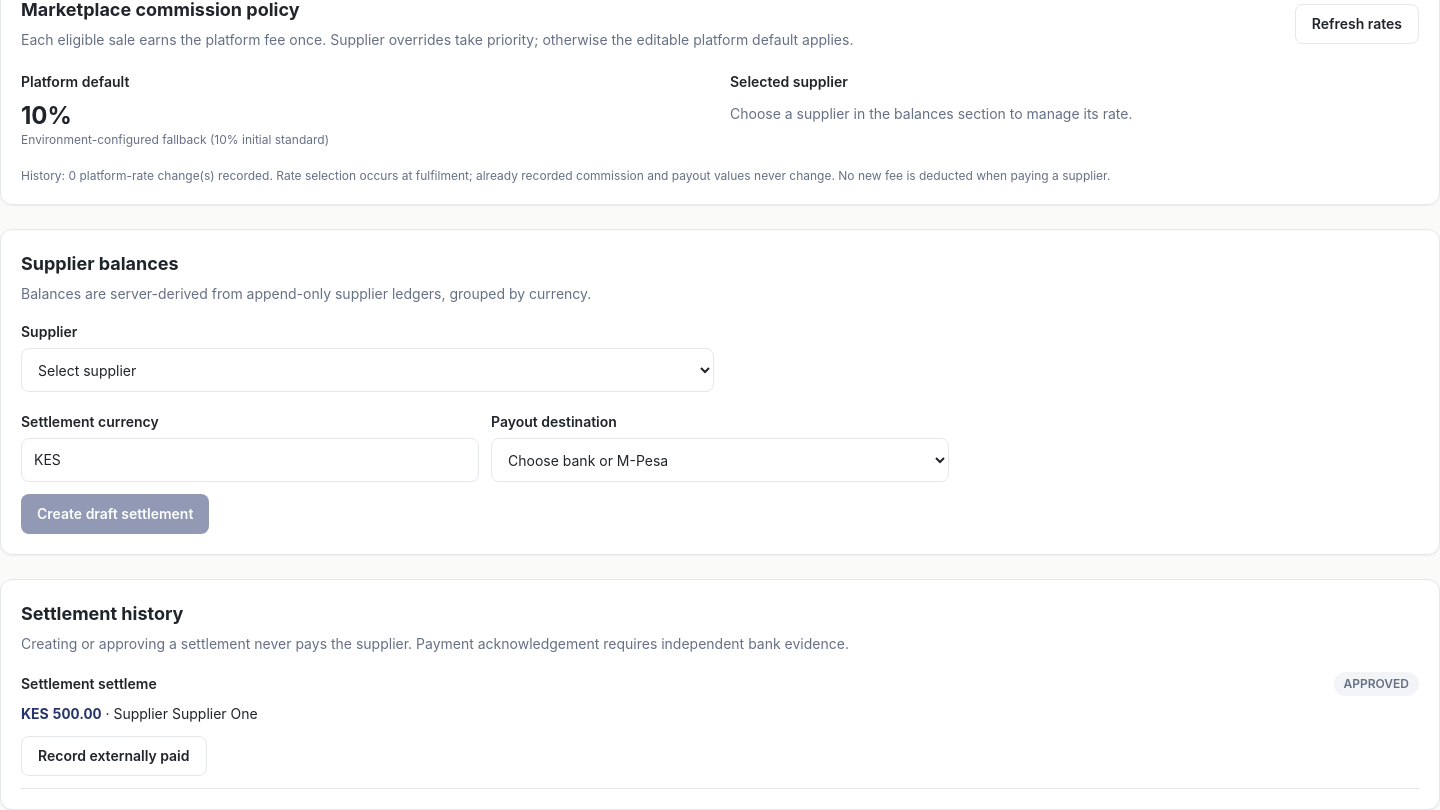
it: platform financial settlement operations › keeps full bank details hidden until the operator explicitly reveals them
The image size is (1440, 810).
(page scrolled)
Expected: the heading "Settlement history" is shown, [21,603,183,624]
Step 1. Click the button "Record externally paid" → (114, 756), box [21,736,206,776]
(page scrolled)
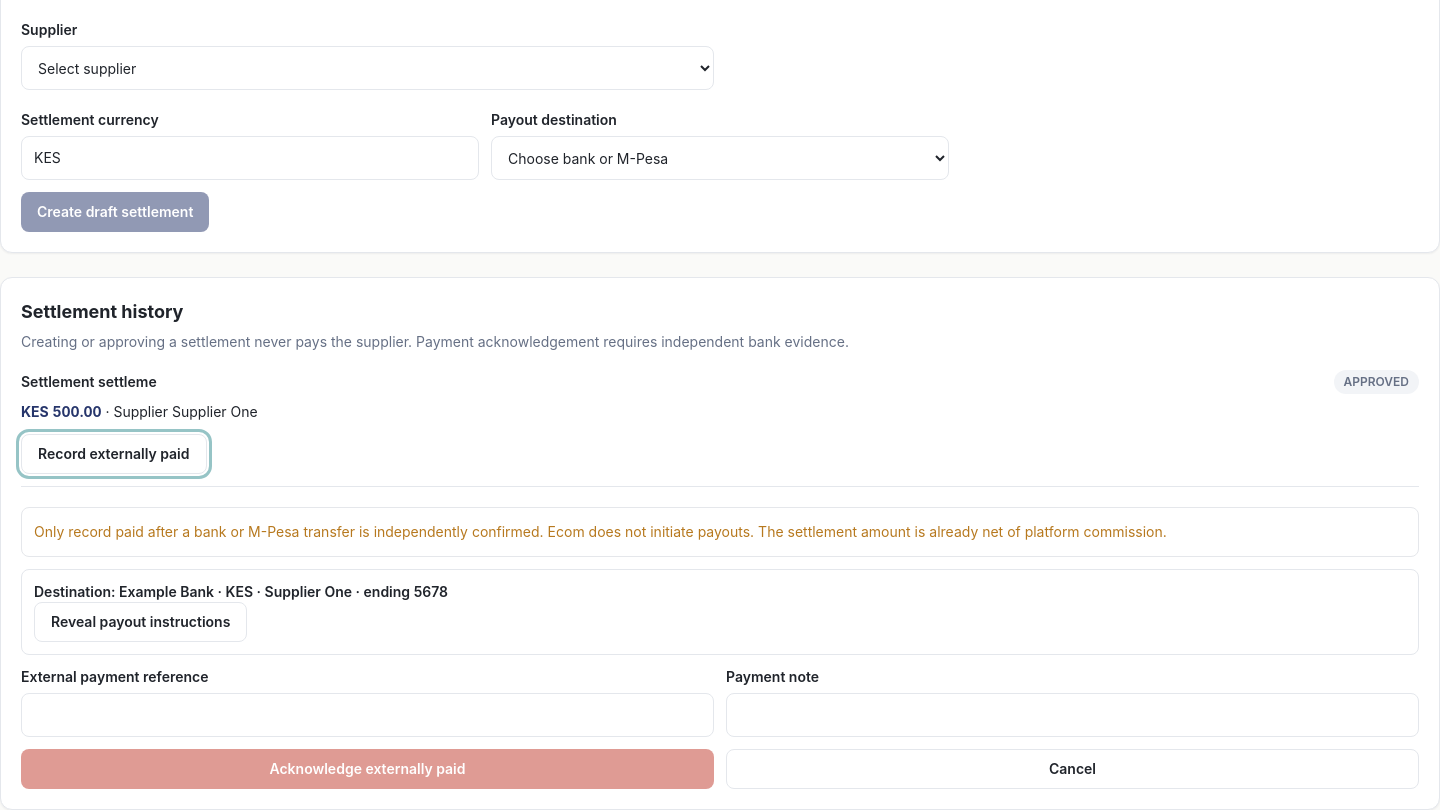
Expected: the text "12345678" is not shown
Step 2. Click the button "Reveal payout instructions" → (141, 622), box [34,602,247,642]
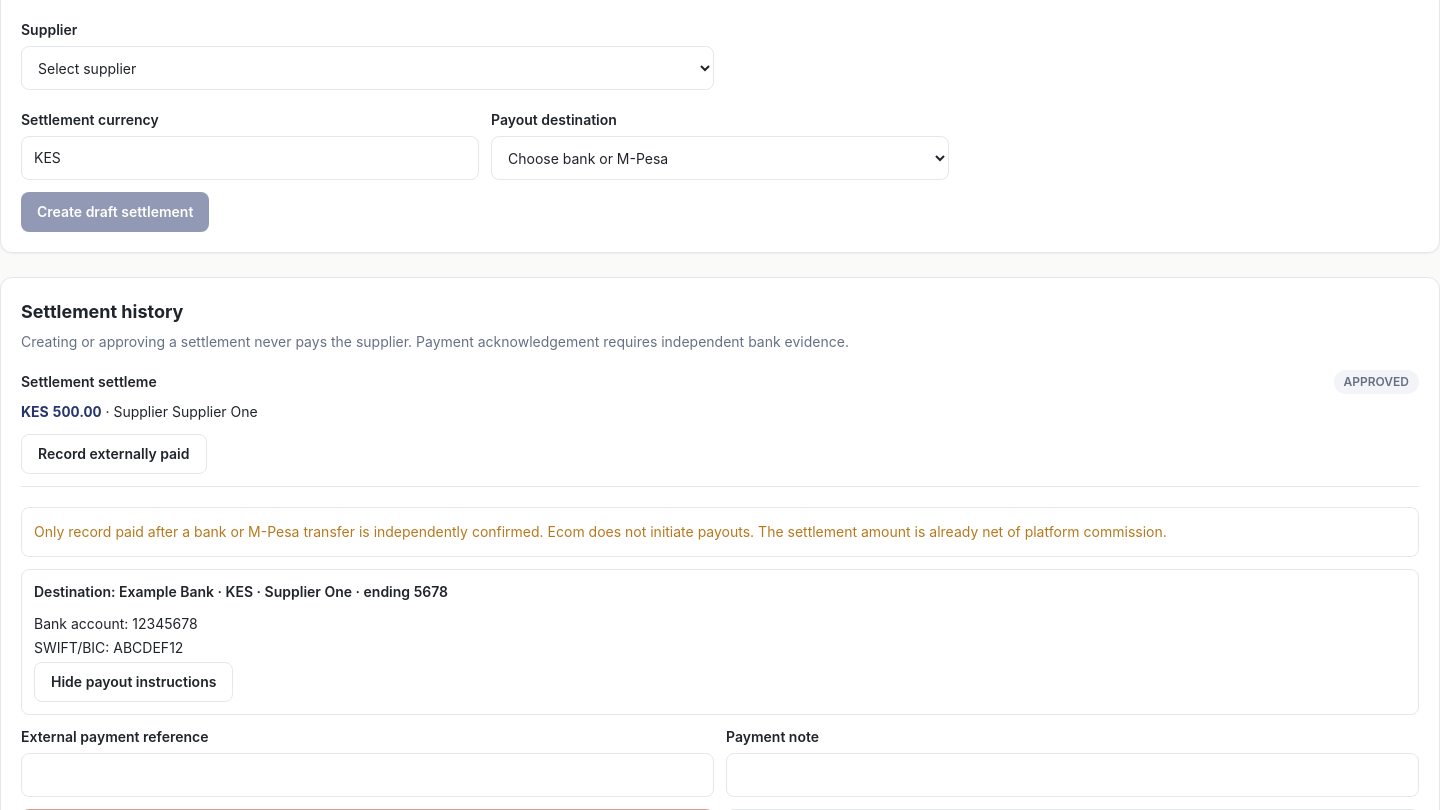
Expected: the text "Bank account: 12345678" is shown, [34,615,198,632]
Step 3. Click the button "Hide payout instructions" → (134, 682), box [34,662,233,702]
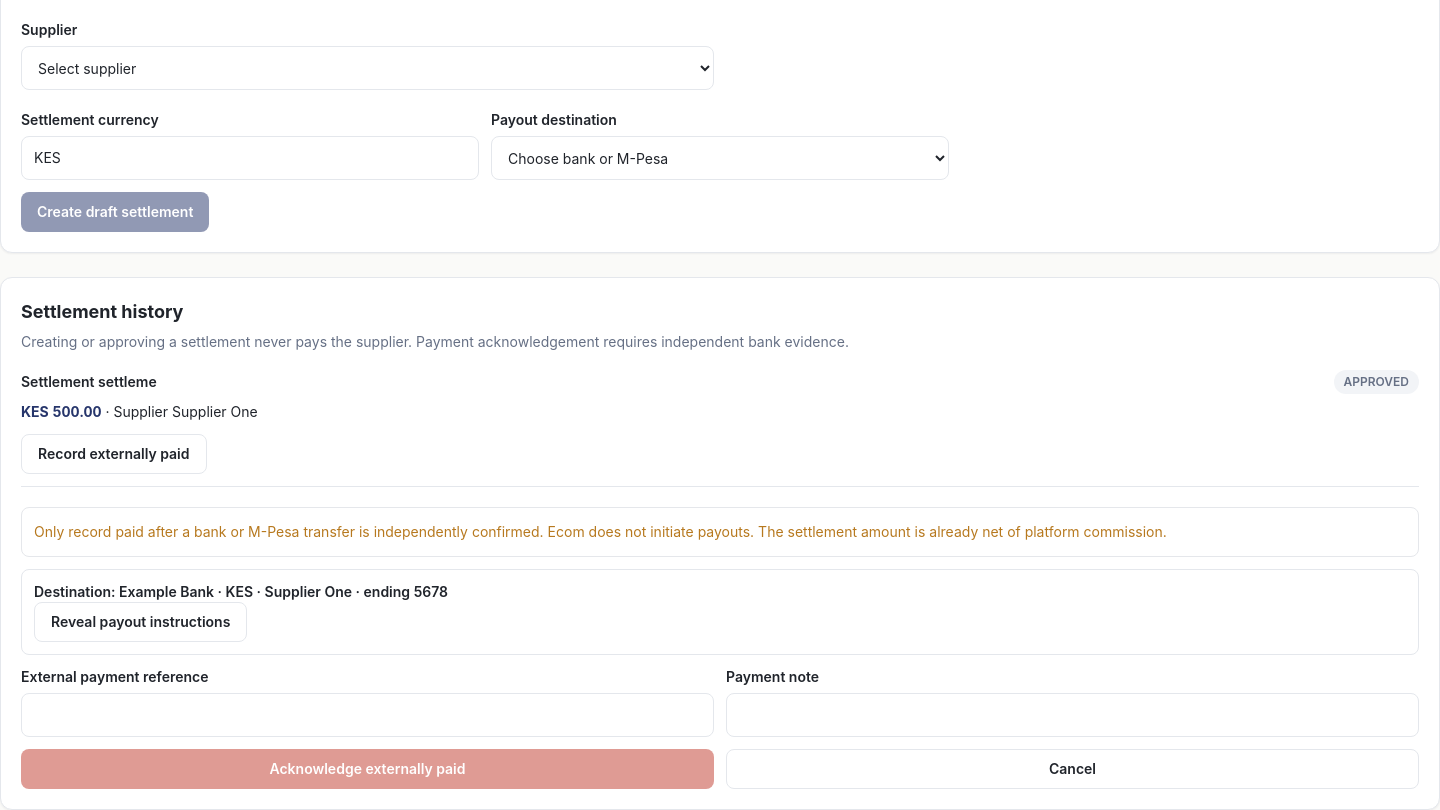
Expected: the text "12345678" is gone
